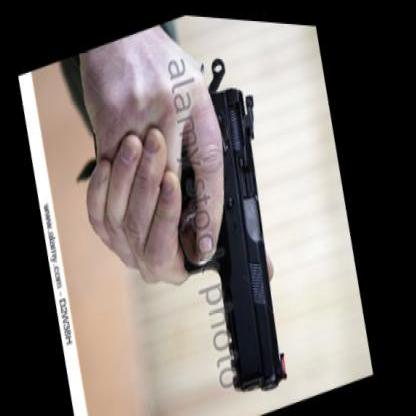pistol: (73, 44, 314, 412)
